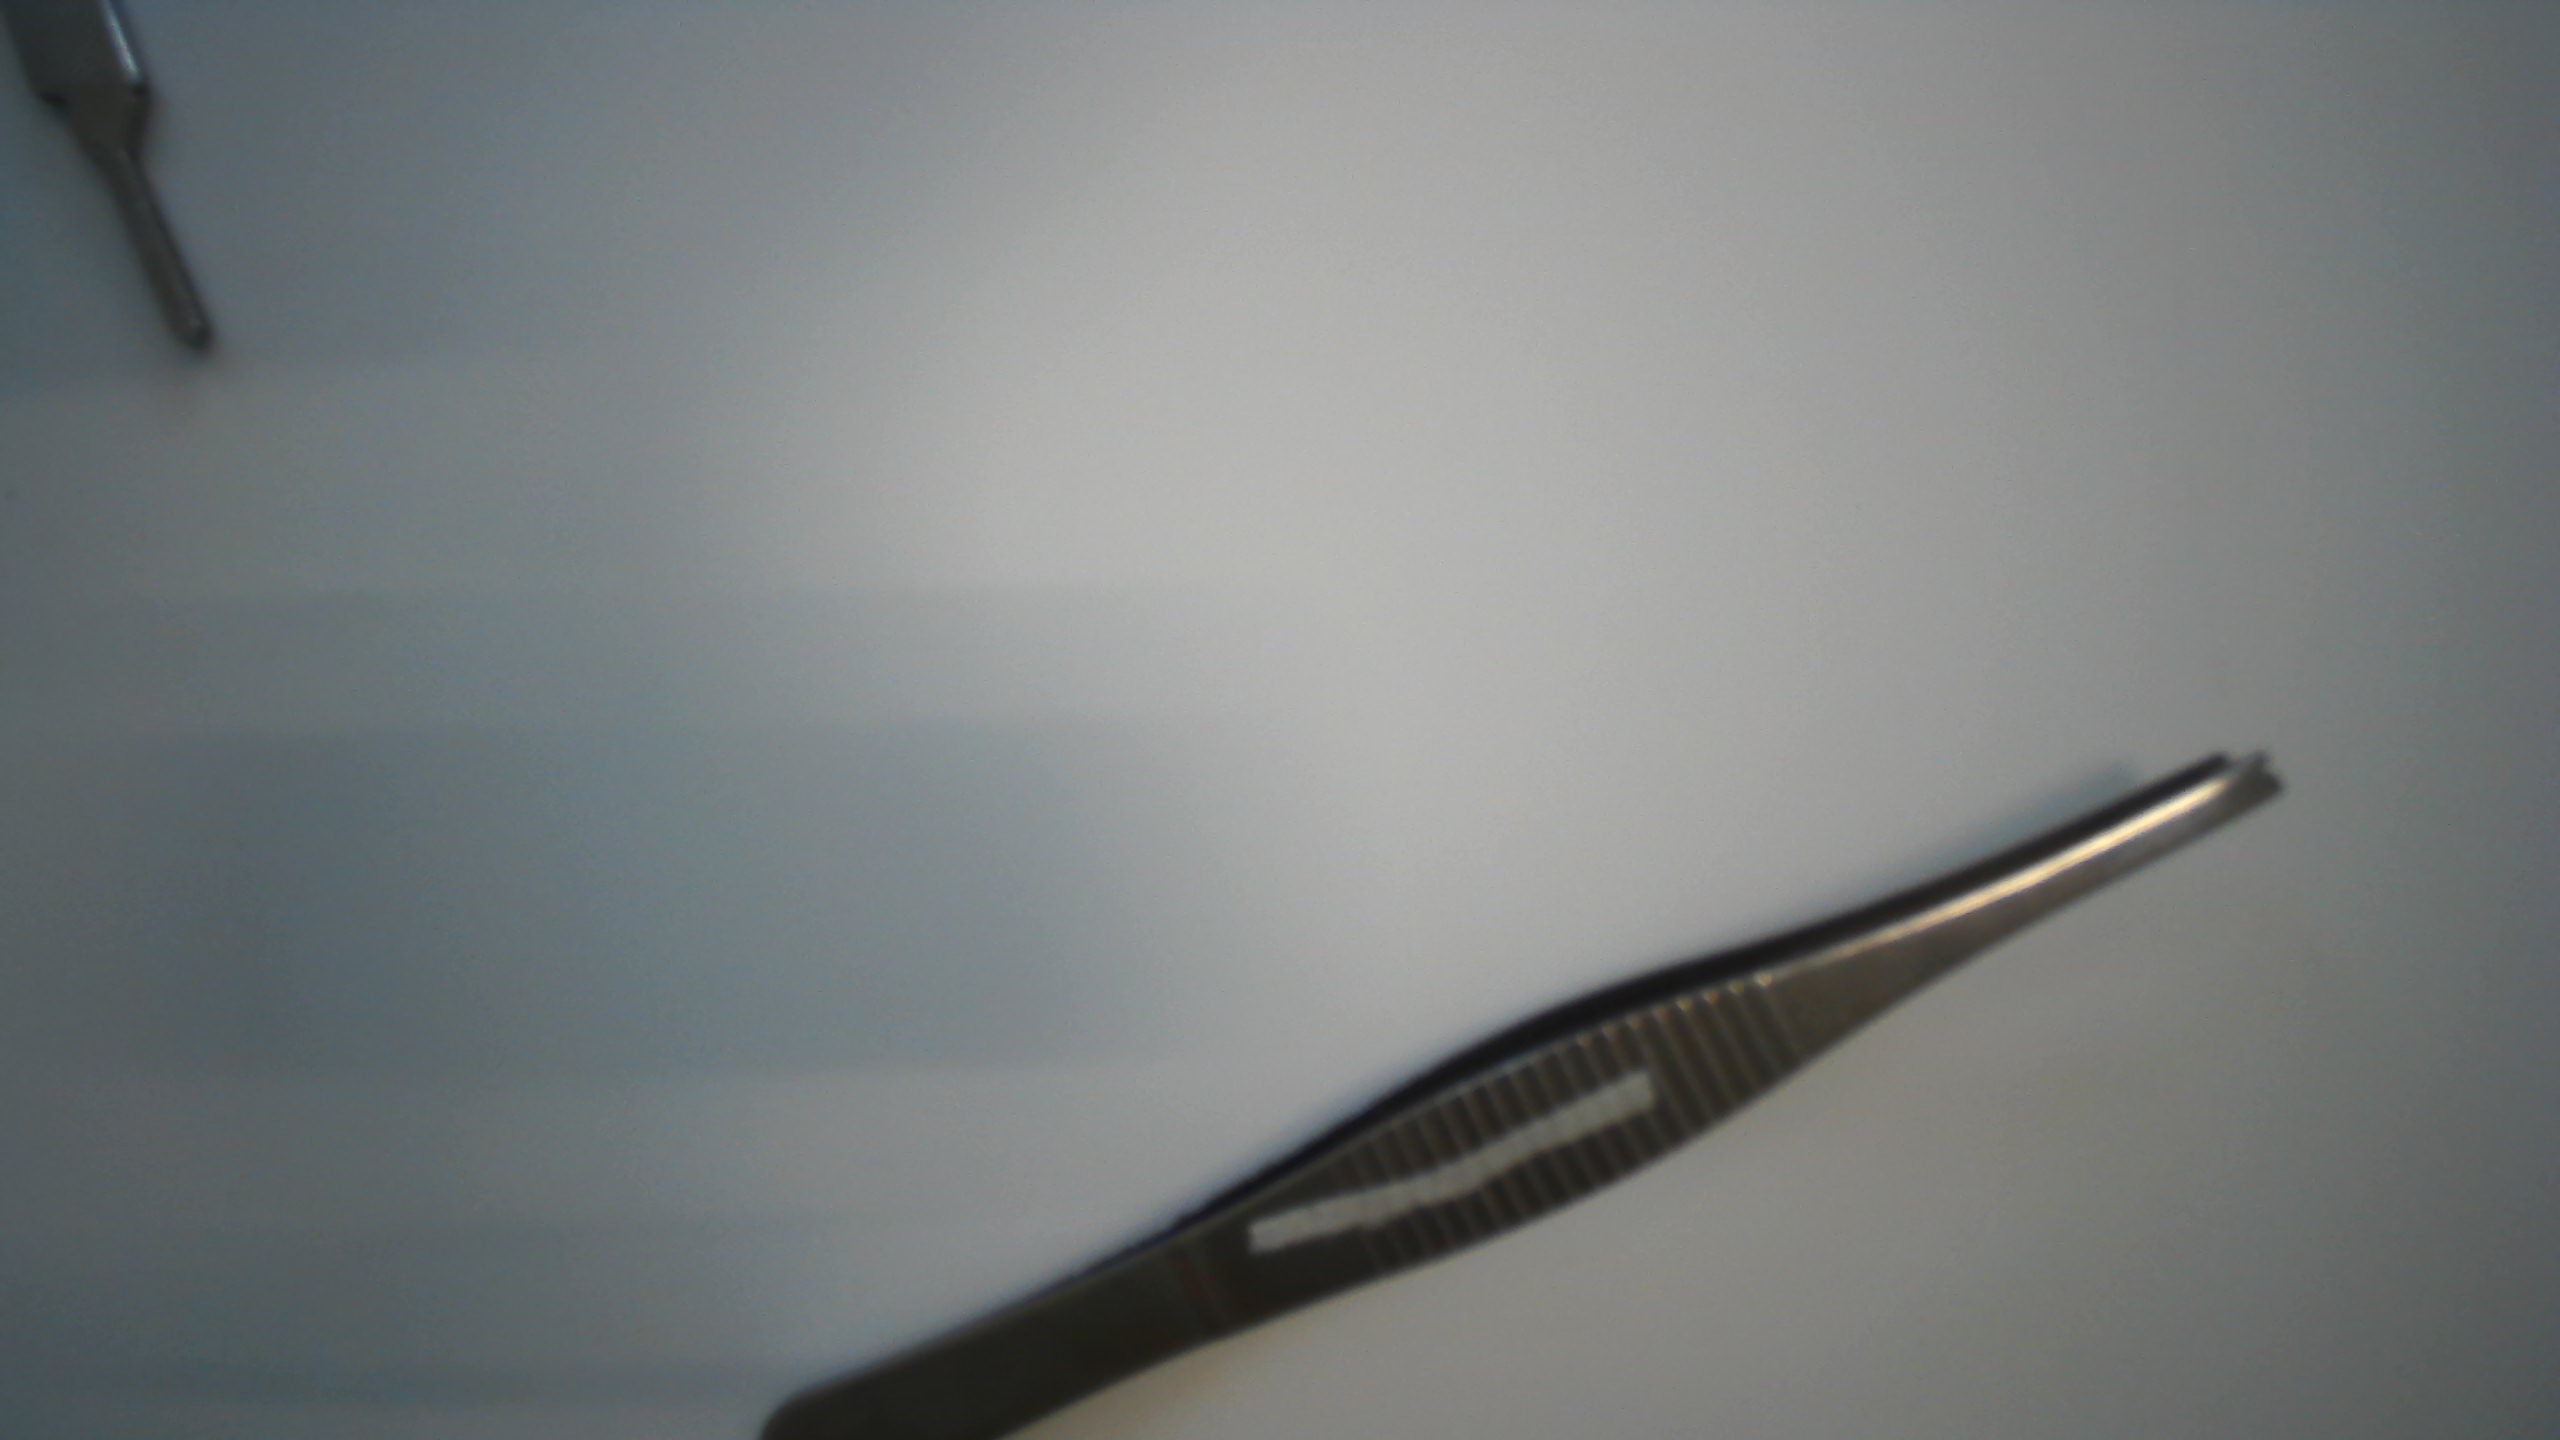Scratches: (1234, 1057, 1670, 1254)
